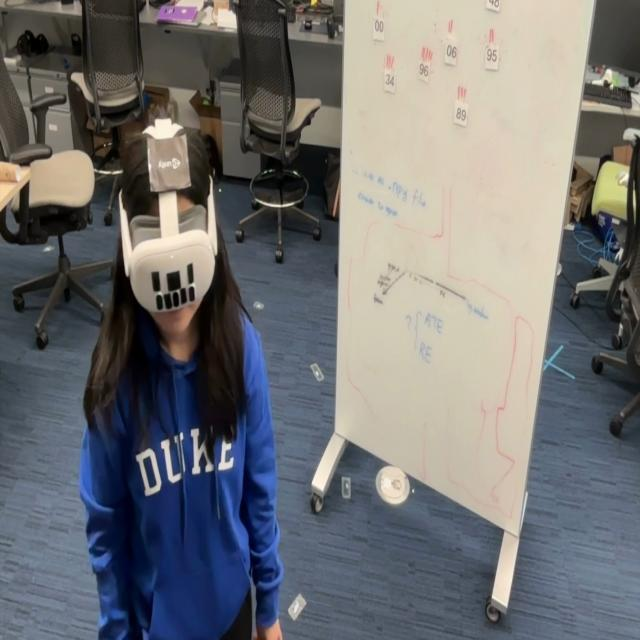UnityLogo: (146, 136, 192, 196)
